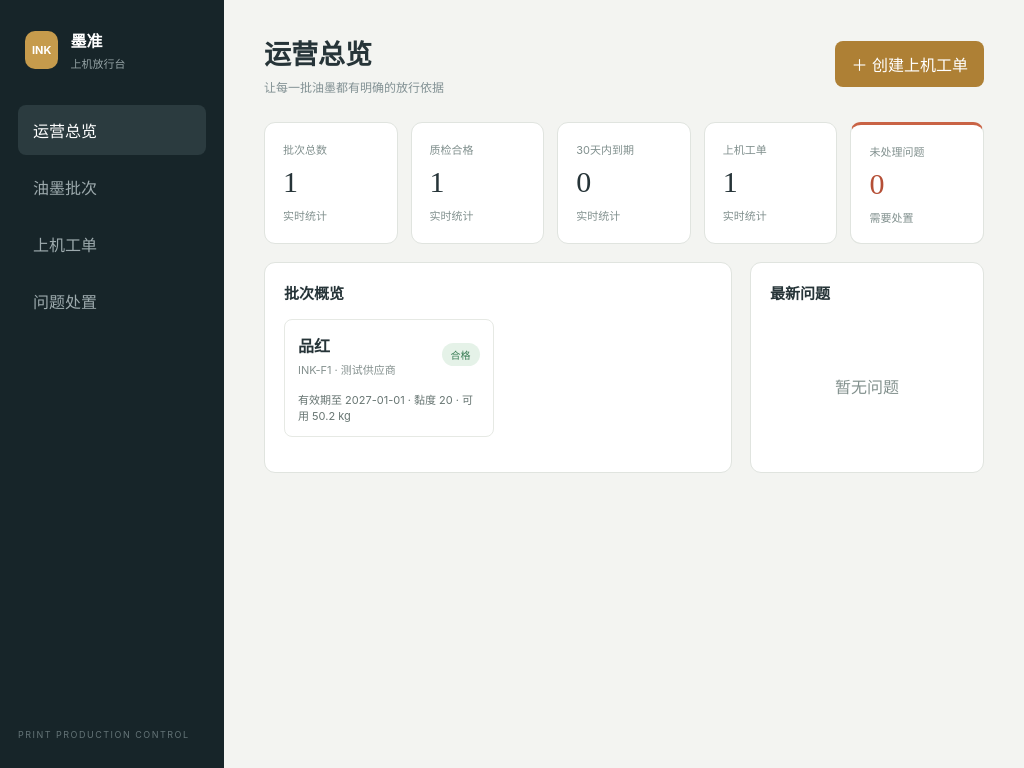
Test: decimal weights render at business precision without float tails
Check: the text "批次总数" is shown, box [283,143,327,157]
Click the button "油墨批次" at x=112, y=187, box [18,162,206,212]
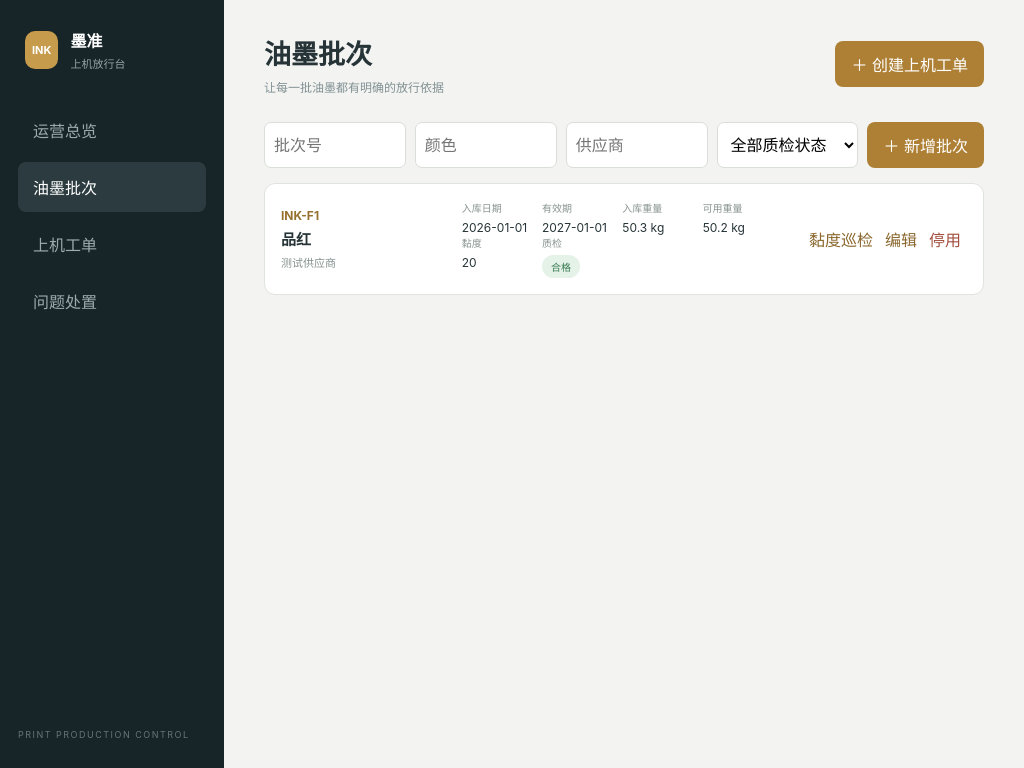
Check: the text "50.2 kg" is shown, box [703,220,745,235]
Check: the text "50.3 kg" is shown, box [622,220,664,235]
Click the button "上机工单" at x=112, y=244, box [18,219,206,269]
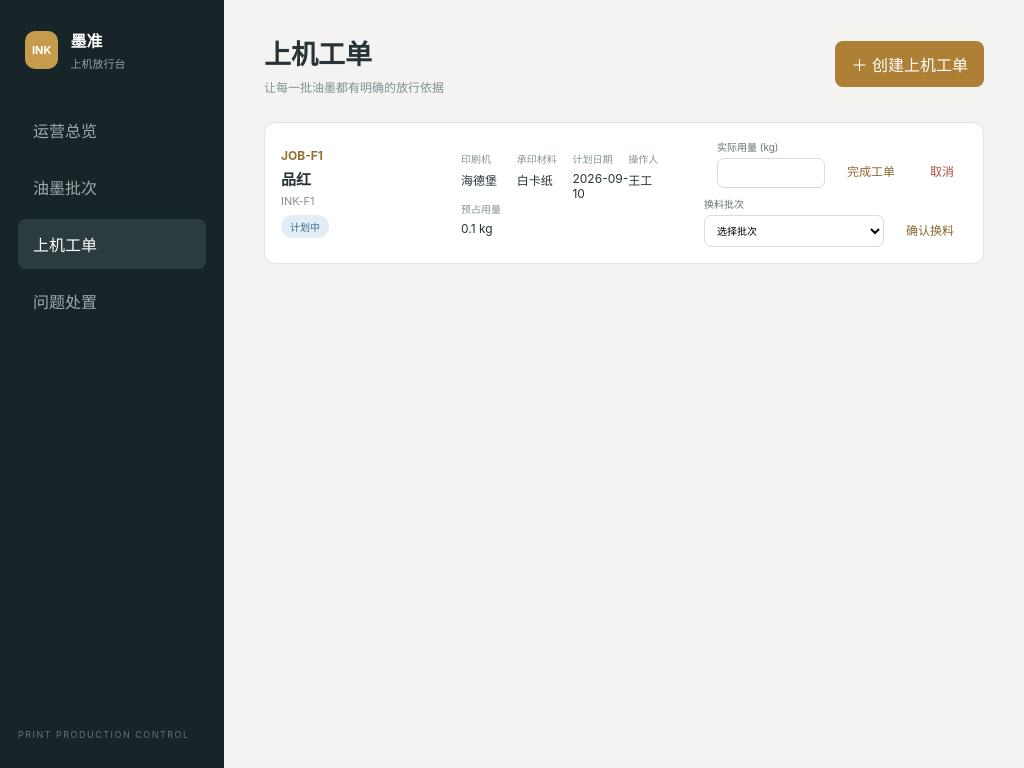
Check: the text "0.1 kg" is shown, box [461,220,493,236]
